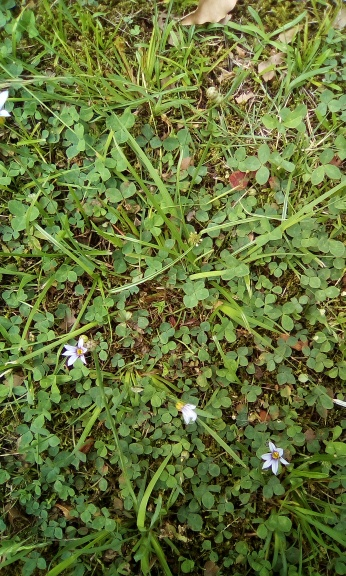4leaf: (181, 279, 210, 309)
